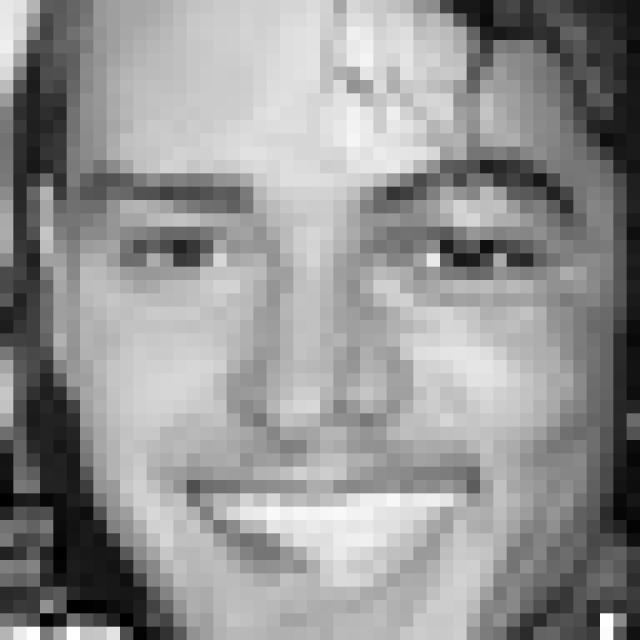happy: (94, 146, 591, 604)
